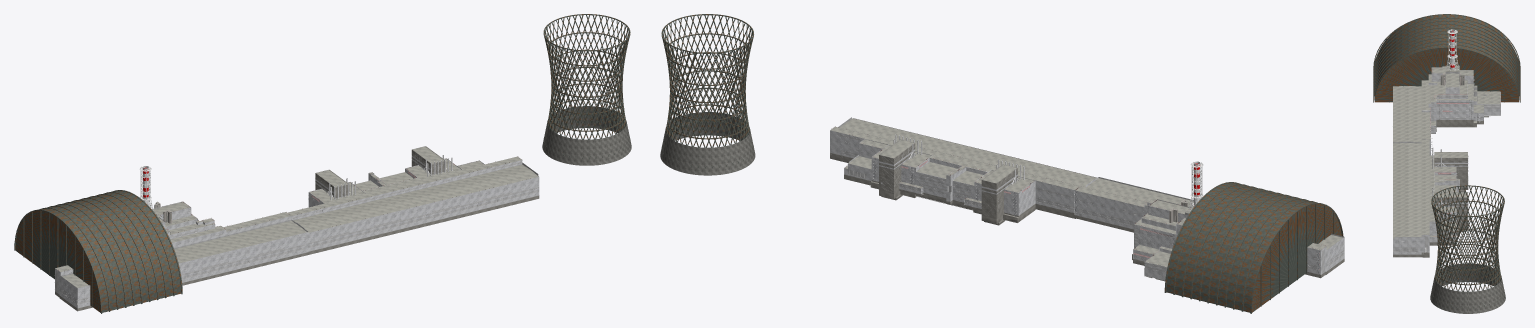
File: power_plant.obj
The picture shows the model from 3 angles, left to right: view 1: azimuth 30°, elevation 25°; view 2: azimuth 150°, elevation 25°; view 3: azimuth 270°, elevation 25°; orthographic projection. The views are drawn at different scales.
Parts seen in each view (by area): view 1: NSC_Steel, CoolingTower_Steel, CoolingTower_Concrete, Block13T_Bitumen_Roof, Block11T_Bitumen_Roof, Block05T_Bitumen_Roof, Block11T_Gls_Gray, Block03T_Bitumen_Roof, Block13T_Gls_Gray, Block13T_PanelWhite0, Block05T_Gls_Gray, Block11T_Bitumen_Wall (+2 smaller); view 2: NSC_Steel, CoolingTower_Steel, CoolingTower_Concrete, Block11T_Bitumen_Roof, Block13T_Bitumen_Roof, Block10R_Bitumen_Wall, Block13R_Bitumen_Wall, Block05T_Bitumen_Roof, Block05R_PanelWhite0, Block04R_PanelWhite0, Block07T_PanelWhite0, Block04R_Bitumen_Roof (+5 smaller); view 3: NSC_Steel, CoolingTower_Steel, CoolingTower_Concrete, Block13T_Bitumen_Roof, Block11T_Bitumen_Roof, Block05T_Bitumen_Roof, Block04R_Bitumen_Roof, Block05R_PanelWhite0, Block03T_Bitumen_Roof, Block10R_Bitumen_Wall, Block05R_Bitumen_Roof, Block16T_PanelWhite0 (+21 smaller).
Part boxes in pixels (left/top/right/bottom): NSC_Steel: left=14, top=190, right=182, bottom=313; CoolingTower_Steel: left=543, top=14, right=630, bottom=158; CoolingTower_Concrete: left=542, top=106, right=631, bottom=165; Block13T_Bitumen_Roof: left=294, top=156, right=538, bottom=225; Block11T_Bitumen_Roof: left=287, top=157, right=528, bottom=232; Block05T_Bitumen_Roof: left=64, top=220, right=306, bottom=281; Block11T_Gls_Gray: left=308, top=186, right=523, bottom=247; Block03T_Bitumen_Roof: left=62, top=227, right=295, bottom=287; Block13T_Gls_Gray: left=323, top=179, right=539, bottom=242; Block13T_PanelWhite0: left=322, top=161, right=539, bottom=248; Block05T_Gls_Gray: left=177, top=223, right=304, bottom=277; Block11T_Bitumen_Wall: left=308, top=200, right=530, bottom=254; NSC_Steel: left=1164, top=182, right=1343, bottom=313; CoolingTower_Steel: left=661, top=14, right=753, bottom=168; CoolingTower_Concrete: left=660, top=112, right=755, bottom=175; Block11T_Bitumen_Roof: left=839, top=119, right=1096, bottom=189; Block13T_Bitumen_Roof: left=830, top=118, right=1086, bottom=184; Block10R_Bitumen_Wall: left=975, top=164, right=1017, bottom=225; Block13R_Bitumen_Wall: left=879, top=139, right=923, bottom=200; Block05T_Bitumen_Roof: left=1086, top=178, right=1331, bottom=243; Block05R_PanelWhite0: left=1133, top=199, right=1190, bottom=261; Block04R_PanelWhite0: left=1140, top=211, right=1186, bottom=278; Block07T_PanelWhite0: left=1075, top=191, right=1142, bottom=225; Block04R_Bitumen_Roof: left=1144, top=200, right=1193, bottom=266; NSC_Steel: left=1373, top=14, right=1520, bottom=102; CoolingTower_Steel: left=1431, top=185, right=1504, bottom=307; CoolingTower_Concrete: left=1430, top=263, right=1505, bottom=313; Block13T_Bitumen_Roof: left=1393, top=141, right=1434, bottom=238; Block11T_Bitumen_Roof: left=1393, top=139, right=1429, bottom=237; Block05T_Bitumen_Roof: left=1393, top=86, right=1435, bottom=142; Block04R_Bitumen_Roof: left=1429, top=66, right=1500, bottom=104; Block05R_PanelWhite0: left=1434, top=89, right=1483, bottom=119; Block03T_Bitumen_Roof: left=1393, top=74, right=1431, bottom=141; Block10R_Bitumen_Wall: left=1434, top=152, right=1468, bottom=191; Block05R_Bitumen_Roof: left=1431, top=74, right=1483, bottom=122; Block16T_PanelWhite0: left=1393, top=235, right=1429, bottom=254.
Size of the model in its own units: 413 by 76.97 by 105.
Materials: 26 (26 with a texture image).
